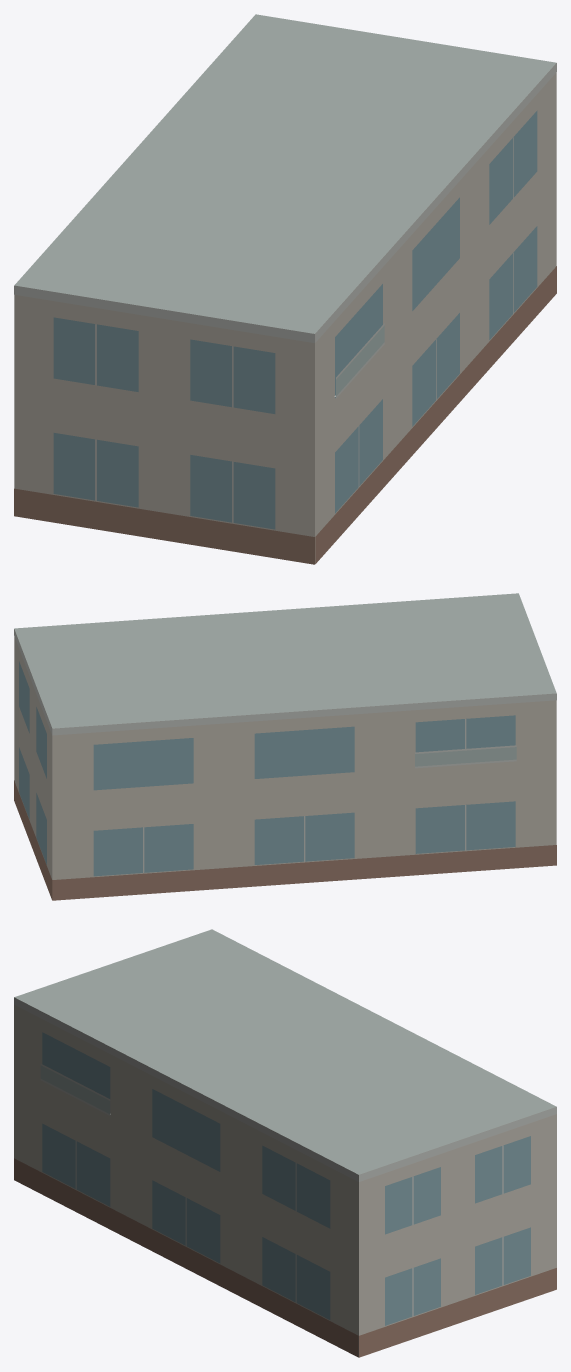
Rendered from survey-upis-32774239.glb.
The picture shows the model from 3 angles, top to bottom: view 1: azimuth 30°, elevation 25°; view 2: azimuth 150°, elevation 25°; view 3: azimuth 270°, elevation 25°; orthographic projection. The views are drawn at different scales.
Visible parts, largest first — view 1: survey-upis-32774239.tmp; view 2: survey-upis-32774239.tmp; view 3: survey-upis-32774239.tmp.
Boxes of the visible parts, x1=… form: survey-upis-32774239.tmp: x1=14, y1=14, x2=556, y2=564; survey-upis-32774239.tmp: x1=14, y1=593, x2=556, y2=900; survey-upis-32774239.tmp: x1=14, y1=929, x2=556, y2=1357.
Bounding box in the file's own units: 17.59 × 6.1 × 16.42.
